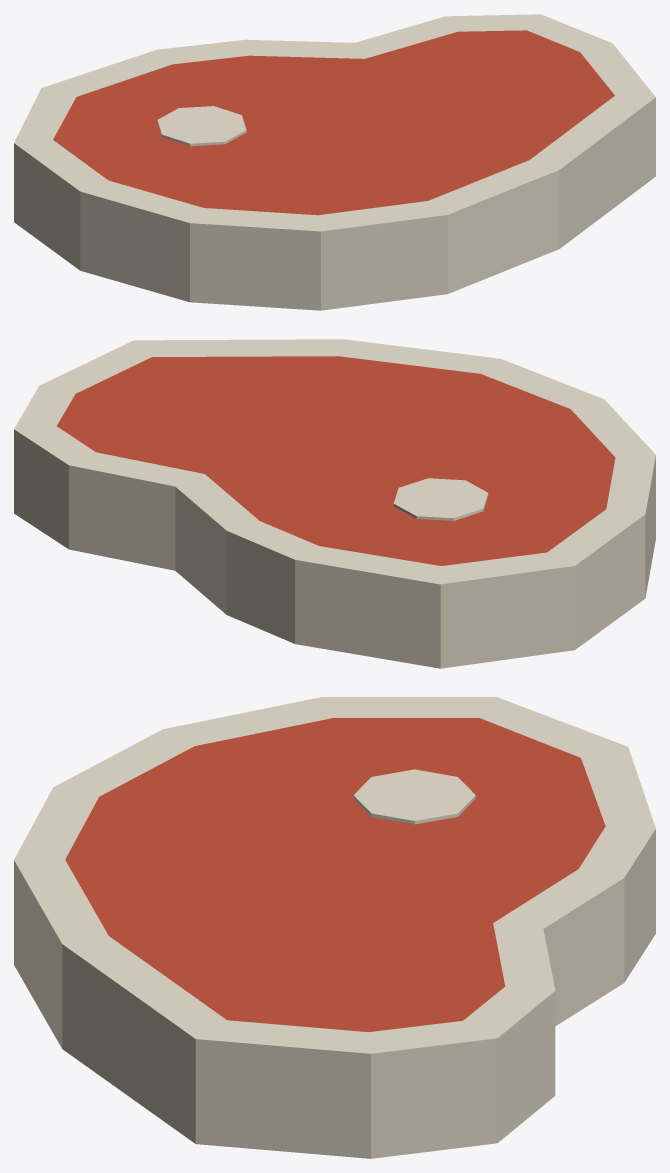
File: meat_3.glb
3 renders of one model, top to bottom at view 1: azimuth 30°, elevation 25°; view 2: azimuth 150°, elevation 25°; view 3: azimuth 270°, elevation 25°, orthographic. The views are drawn at different scales.
Visible parts, largest first — view 1: meat_3; view 2: meat_3; view 3: meat_3.
Boxes of the visible parts, x1,y1,x2,y2 form: meat_3: (14,14,655,310); meat_3: (14,339,655,668); meat_3: (14,697,655,1158).
Bounding box in the file's own units: 0.2948 × 0.0431 × 0.2242.
Materials: 1 (1 with a texture image).
